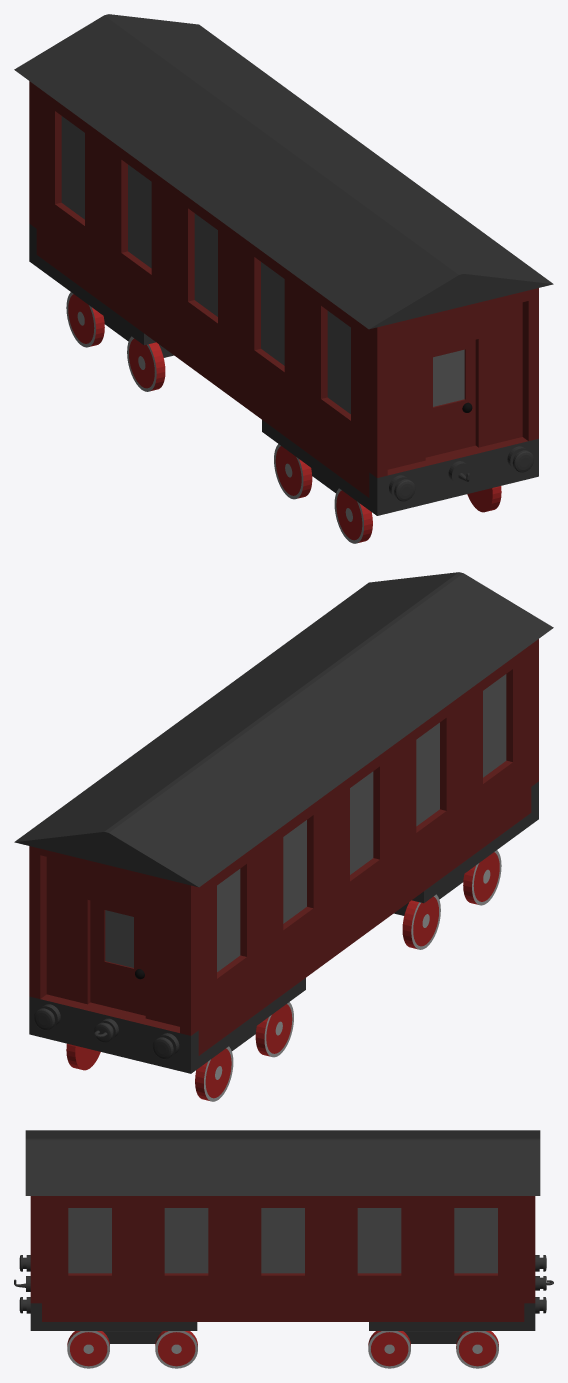
File: Residential wagon 2.fbx
3 views of the same model, one above another, from view 1: azimuth 30°, elevation 25°; view 2: azimuth 150°, elevation 25°; view 3: azimuth 270°, elevation 25° (orthographic). The views are drawn at different scales.
Parts seen in each view (by area): view 1: Residential wagon; view 2: Residential wagon; view 3: Residential wagon.
Part boxes in pixels (x1,y1,x2,y2): Residential wagon: (14,14,553,543); Residential wagon: (14,572,553,1101); Residential wagon: (14,1130,553,1368).
Size of the model in its own units: 404 by 589 by 1408.
